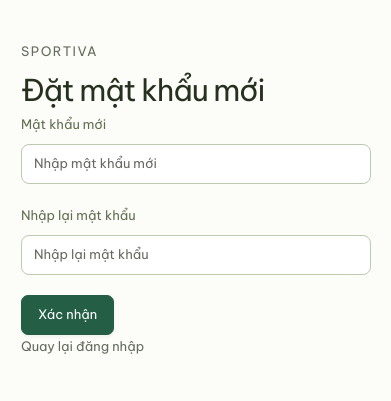
account email actions › rejects mismatched reset confirmation without a request
In the password field labelled "Mật khẩu mới": [196, 164] box [21,144,371,184], type "new-password"
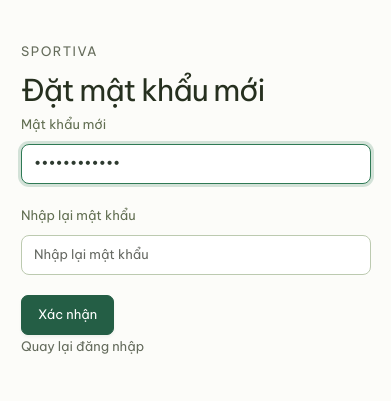
In the password field labelled "Nhập lại mật khẩu": [196, 255] box [21,235,371,275], type "different-password"
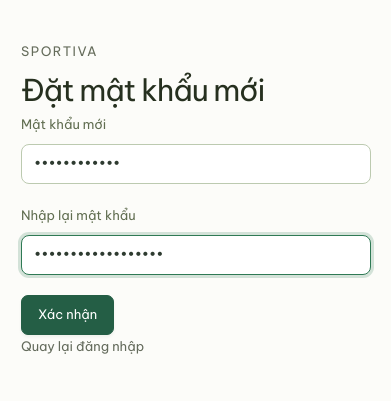
Click the button "Xác nhận": [68, 315] box [21,295,114,335]
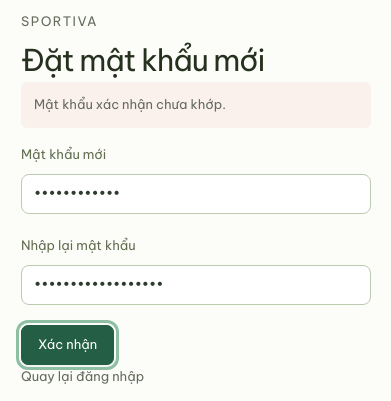
Check: the message shows "chưa khớp", box [34,96,226,112]
